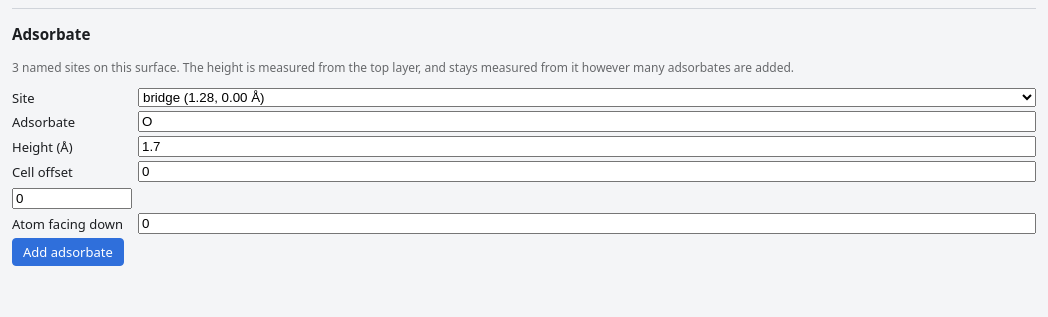
a bad height is refused before anything is posted
The width and height of the screenshot is (1048, 317).
Check: the dropdown labelled "Site" shows "bridge (1.28, 0.00 Å)", box [138,88,1036,107]
Replace the text in the field labelled "Height (Å)" with "0": (587, 147) [138,136,1036,157]
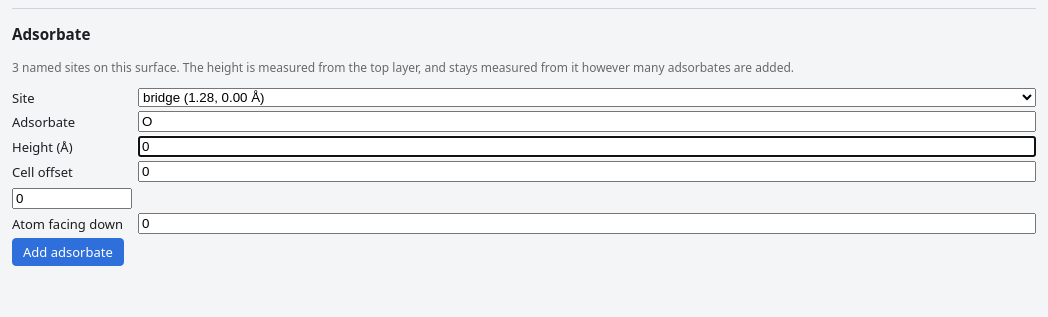
Click the button "Add adsorbate": (68, 252) [12,238,124,266]
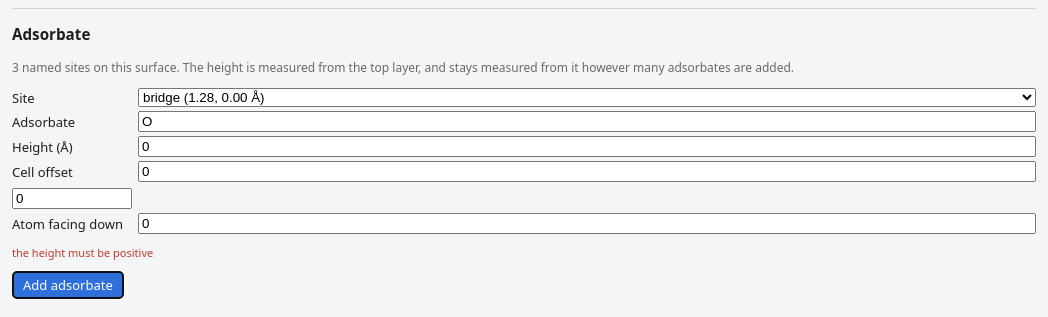
Check: the text "the height must be positive" is shown, box [12,245,153,260]
